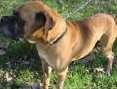dog: (0, 1, 111, 71)
